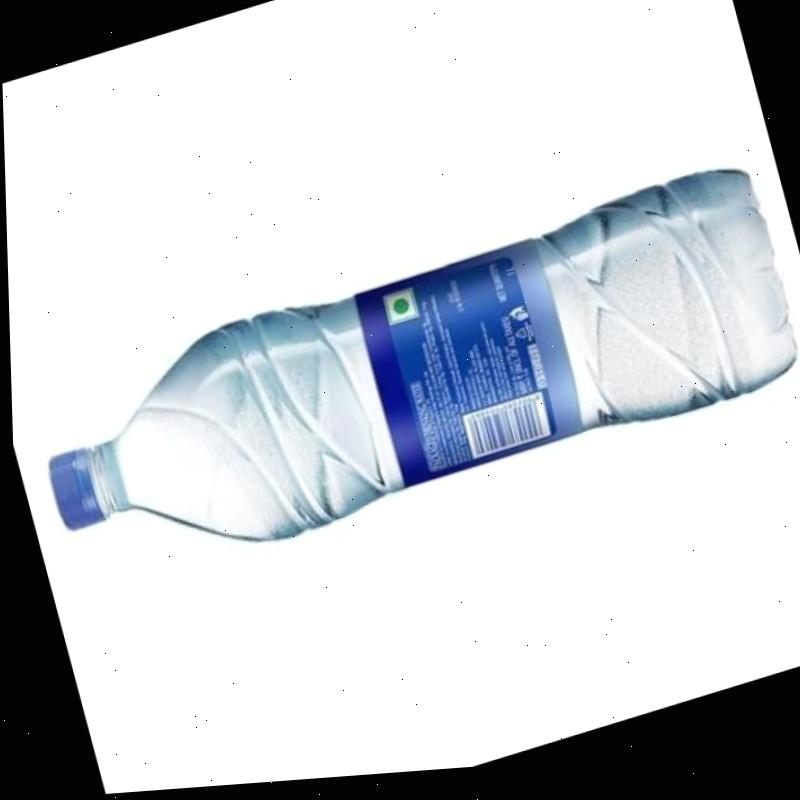botella: (16, 167, 800, 604)
